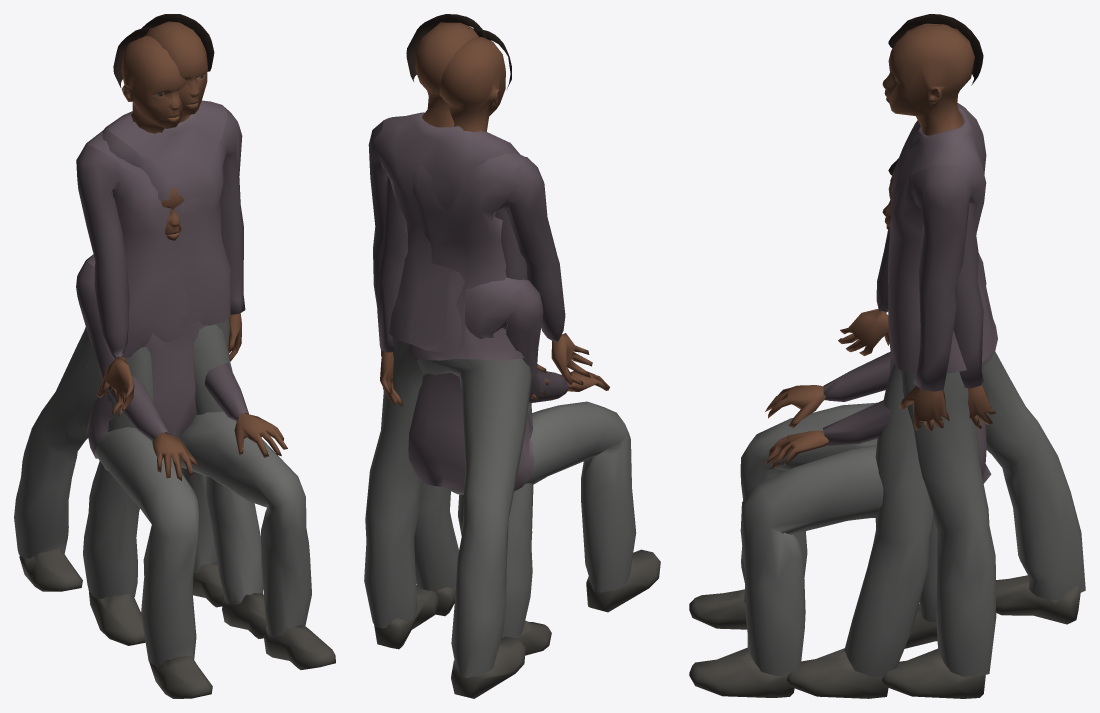
File: crowd-05-crowd.glb
The picture shows the model from 3 angles, left to right: view 1: azimuth 30°, elevation 25°; view 2: azimuth 150°, elevation 25°; view 3: azimuth 270°, elevation 25°; orthographic projection. The views are drawn at different scales.
Visible parts, largest first — view 1: walking, seated, standing; view 2: walking, standing, seated; view 3: standing, walking, seated.
Boxes of the visible parts, x1,y1,x2,y2 form: walking: (14, 27, 266, 638); seated: (76, 188, 335, 698); standing: (83, 14, 245, 645); walking: (377, 28, 592, 698); standing: (364, 14, 551, 655); seated: (408, 277, 660, 612); standing: (882, 15, 997, 698); walking: (786, 14, 1085, 698); seated: (689, 158, 991, 697).
Size of the model in its own units: 0.4928 by 1.63 by 0.8939.
